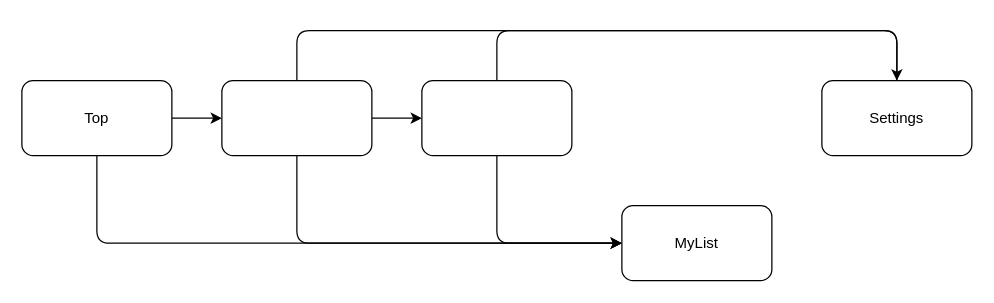
Some shapes in this 994 by 303 pixel diagram are drawn without their labels. Here are the shapes that lost their labels. From the top down, the centre of each, then its label:
(296,117): VideoList
(496,117): VideoPlayer
